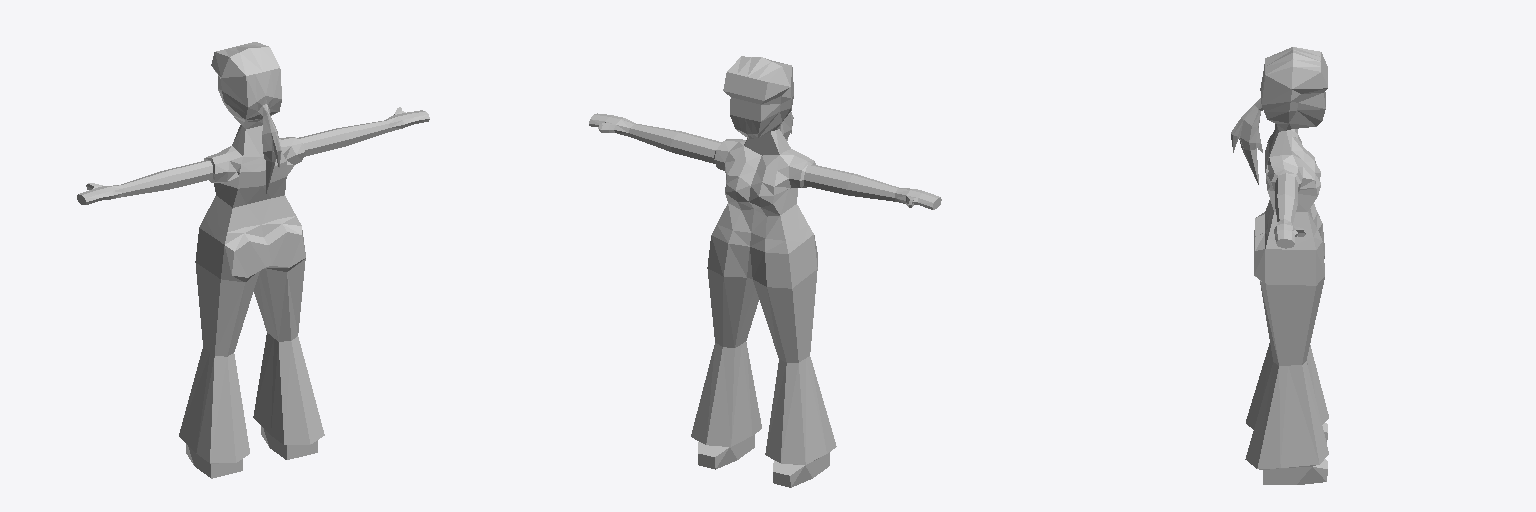
The model's file is low_poly_girl.obj.
3 views of the same model, side by side, from view 1: azimuth 30°, elevation 25°; view 2: azimuth 150°, elevation 25°; view 3: azimuth 270°, elevation 25° (orthographic).
Parts seen in each view (by area): view 1: Cube; view 2: Cube; view 3: Cube.
Boxes of the visible parts, box(x1,y1,x2,y2) form: Cube: box(77, 42, 429, 478); Cube: box(589, 56, 941, 487); Cube: box(1231, 47, 1328, 484).
Bounding box in the file's own units: 2.88 × 3.26 × 0.717.